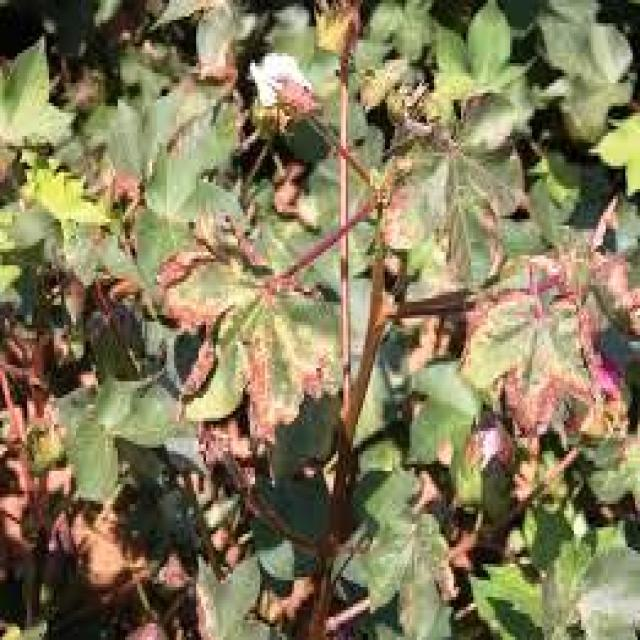Fusarium Wilt: (9, 21, 605, 640)
